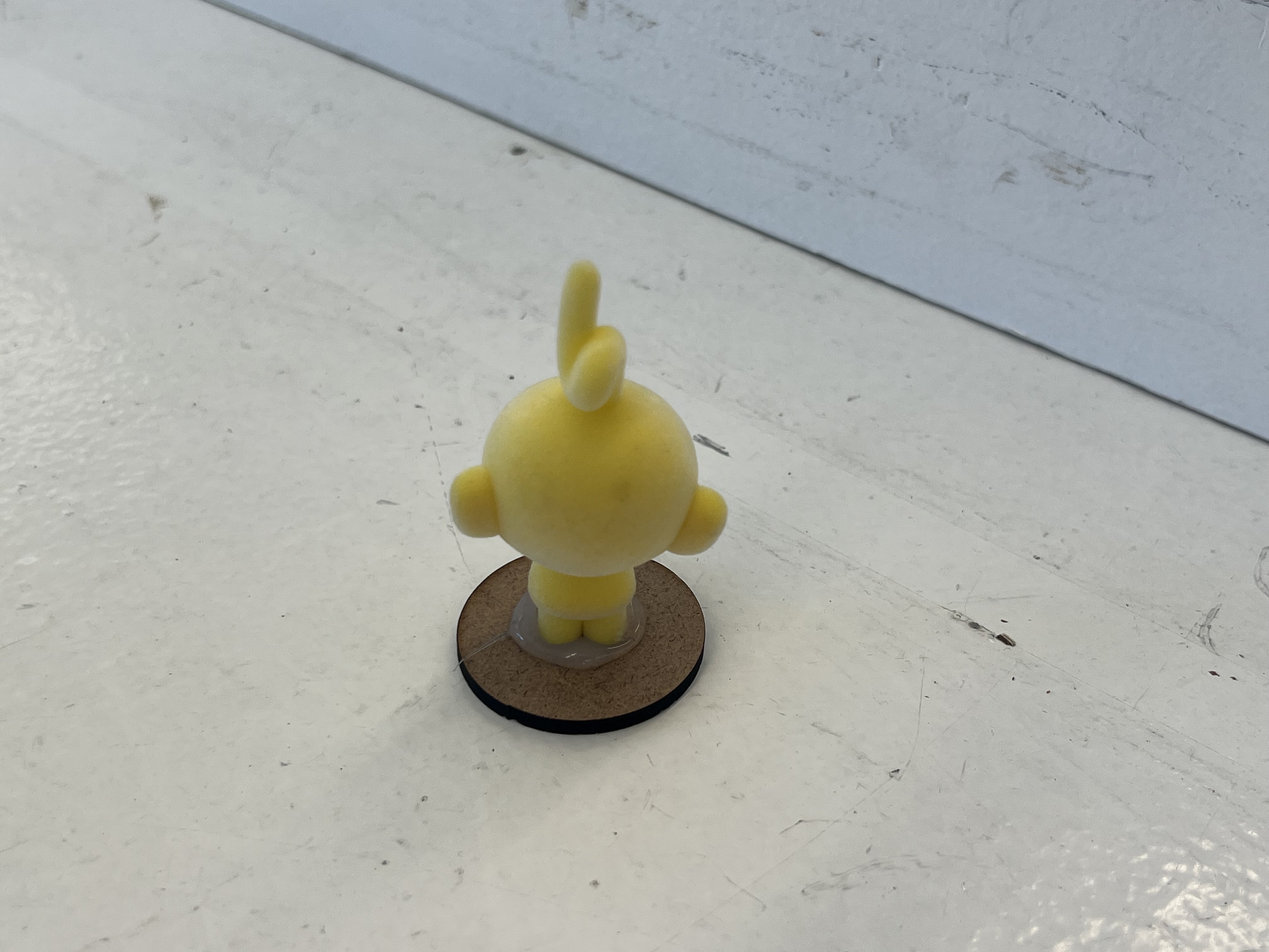teletubby: (450, 261, 727, 644)
